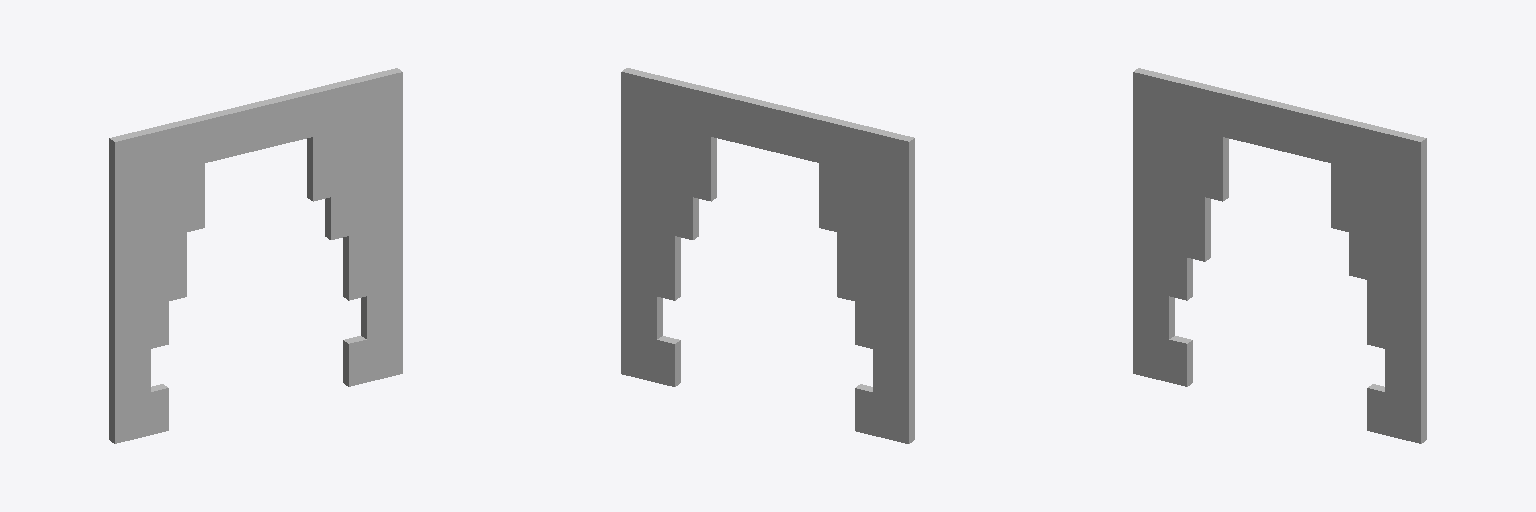
Rendered from curtain_open.obj.
The picture shows the model from 3 angles: view 1: azimuth 30°, elevation 25°; view 2: azimuth 150°, elevation 25°; view 3: azimuth 330°, elevation 25°; orthographic projection.
Parts seen in each view (by area): view 1: curtains_open_Plane; view 2: curtains_open_Plane; view 3: curtains_open_Plane.
Part boxes in pixels (left/top/right/bottom): curtains_open_Plane: left=109, top=68, right=402, bottom=443; curtains_open_Plane: left=621, top=68, right=914, bottom=443; curtains_open_Plane: left=1133, top=68, right=1426, bottom=443.
Bounding box in the file's own units: 1 × 1 × 0.0358.